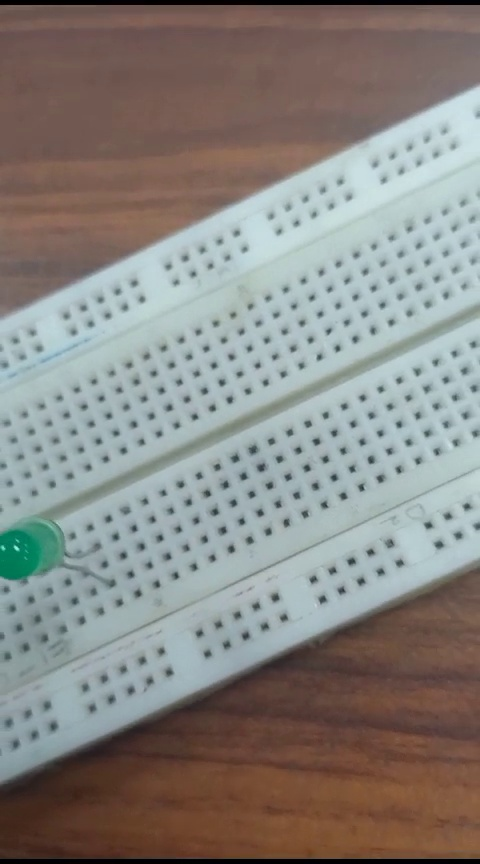LED: (7, 515, 104, 593)
